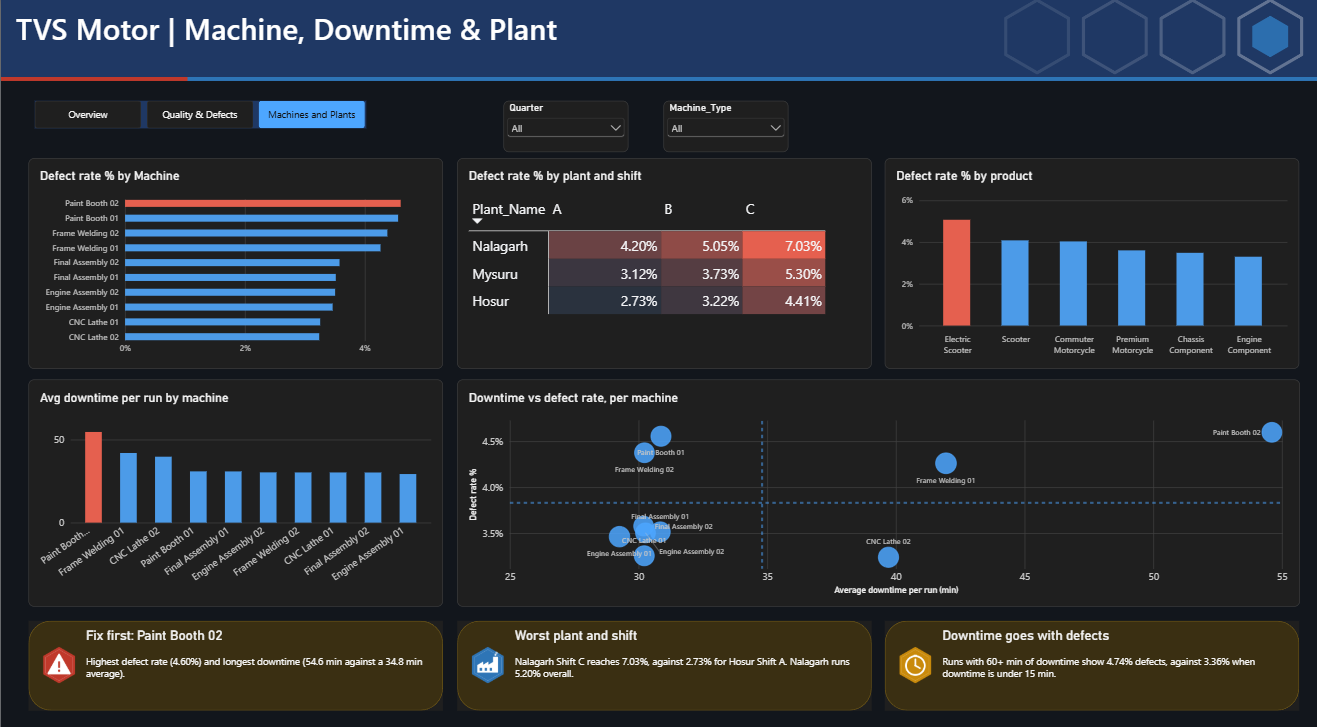

The dashboard page shown, as its layout file describes it:
{"tool":"powerbi","page":{"name":"Machines and Plants","canvas":[1920,1080],"ordinal":2},"visuals":[{"type":"image","box":[0,0,1920.1,128.5],"z":0,"group":"g1"},{"type":"group","id":"g1","title":"Group 1","box":[0,0,1920.1,128.5],"z":0},{"type":"shape","box":[40,910,600,130],"z":0,"group":"g2"},{"type":"shape","box":[660,910,600,130],"z":0,"group":"g3"},{"type":"shape","box":[1280,910,600,130],"z":0,"group":"g4"},{"type":"textbox","box":[21.7,22.8,1140,57.1],"z":1000,"group":"g1"},{"type":"pageNavigator","box":[48.9,157.4,480,40],"z":1000},{"type":"textbox","title":"Fix first: Paint Booth 02","box":[124,920,504,110],"z":1000,"group":"g2"},{"type":"textbox","title":"Worst plant and shift","box":[744,920,504,110],"z":1000,"group":"g3"},{"type":"textbox","title":"Downtime goes with defects","box":[1364,920,504,110],"z":1000,"group":"g4"},{"type":"slicer","fields":{"Values":["Calendar.Quarter"]},"box":[728,158,181,74.2],"z":2000},{"type":"image","box":[56,947,56,56],"z":2000,"group":"g2"},{"type":"image","box":[676,947,56,56],"z":2000,"group":"g3"},{"type":"image","box":[1296,947,56,56],"z":2000,"group":"g4"},{"type":"clusteredBarChart","title":"Defect rate % by Machine","fields":{"Category":["machines.Machine_Name"],"Y":["Calendar.Defect Rate %"]},"box":[40,240,600,305],"z":3000},{"type":"clusteredColumnChart","title":"Avg downtime per run by machine","fields":{"Category":["machines.Machine_Name"],"Y":["Calendar.Avg Downtime per Run (min)"]},"box":[40,561,600,329],"z":4000},{"type":"pivotTable","title":"Defect rate % by plant and shift","fields":{"Columns":["production.Shift"],"Rows":["plants.Plant_Name"],"Values":["Calendar.Defect Rate %"]},"box":[660,240,600,305],"z":5000},{"type":"slicer","fields":{"Values":["machines.Machine_Type"]},"box":[960,158,181,74.2],"z":6000},{"type":"clusteredColumnChart","title":"Defect rate % by product","fields":{"Category":["products.Product_Name"],"Y":["Calendar.Defect Rate %"]},"box":[1280,240,600,305],"z":7000},{"type":"scatterChart","title":"Downtime vs defect rate, per machine","fields":{"Category":["machines.Machine_Name"],"Size":["Calendar.Total Units"],"X":["Calendar.Avg Downtime per Run (min)"],"Y":["Calendar.Defect Rate %"]},"box":[660,561,1220,329],"z":8000},{"type":"group","id":"g2","title":"Group 4","box":[40,910,600,130],"z":9000},{"type":"group","id":"g3","title":"Group 4","box":[660,910,600,130],"z":10000},{"type":"group","id":"g4","title":"Group 4","box":[1280,910,600,130],"z":11000}]}

Visuals, with their boxes in screenshot pixels (x1, y1, x2, y2), scaled from the page's 1920x1080 canvas onto the 1317x727 screenshot:
image: 0:0:1316:86
"Group 1" group: 0:0:1316:86
shape: 27:613:439:700
shape: 453:613:864:700
shape: 878:613:1290:700
textbox: 15:15:797:54
pageNavigator: 34:106:363:133
"Fix first: Paint Booth 02" textbox: 85:619:431:693
"Worst plant and shift" textbox: 510:619:856:693
"Downtime goes with defects" textbox: 936:619:1281:693
slicer - Calendar.Quarter: 499:106:624:156
image: 38:637:77:675
image: 464:637:502:675
image: 889:637:927:675
"Defect rate % by Machine" clusteredBarChart: 27:162:439:367
"Avg downtime per run by machine" clusteredColumnChart: 27:378:439:599
"Defect rate % by plant and shift" pivotTable: 453:162:864:367
slicer - machines.Machine_Type: 658:106:783:156
"Defect rate % by product" clusteredColumnChart: 878:162:1290:367
"Downtime vs defect rate, per machine" scatterChart: 453:378:1290:599
"Group 4" group: 27:613:439:700
"Group 4" group: 453:613:864:700
"Group 4" group: 878:613:1290:700
